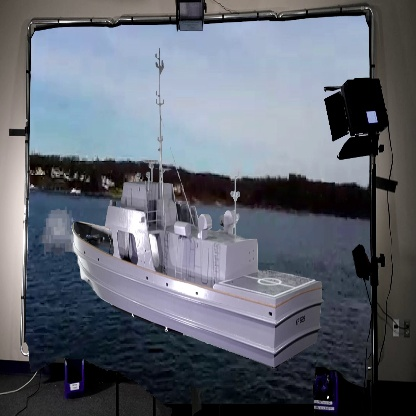YP689: (70, 53, 323, 369)
